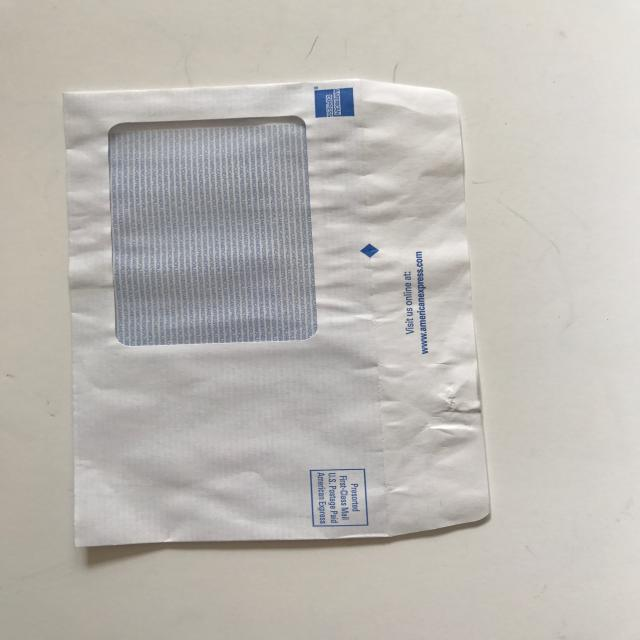paper: (63, 79, 490, 546)
